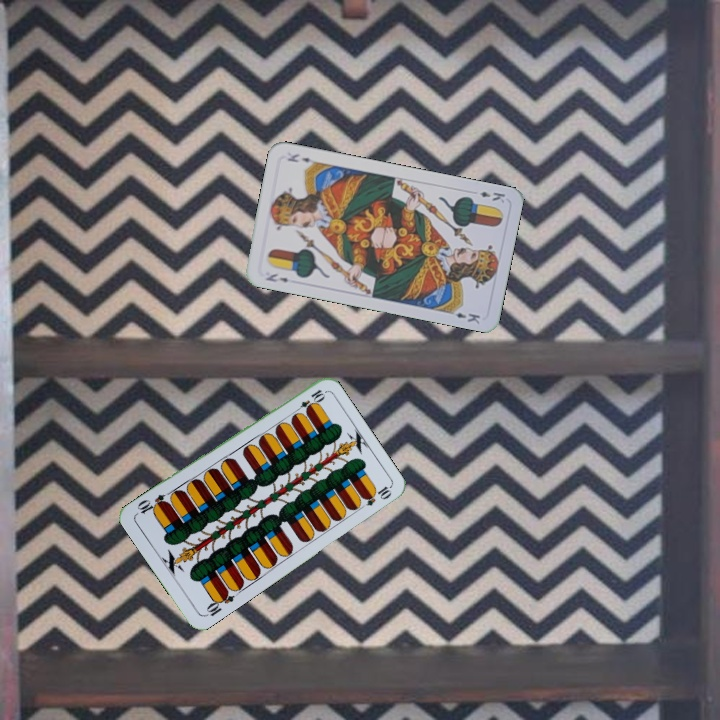E10: (201, 586, 237, 619), (290, 385, 327, 416)
EK: (476, 187, 508, 205), (262, 269, 291, 285)
